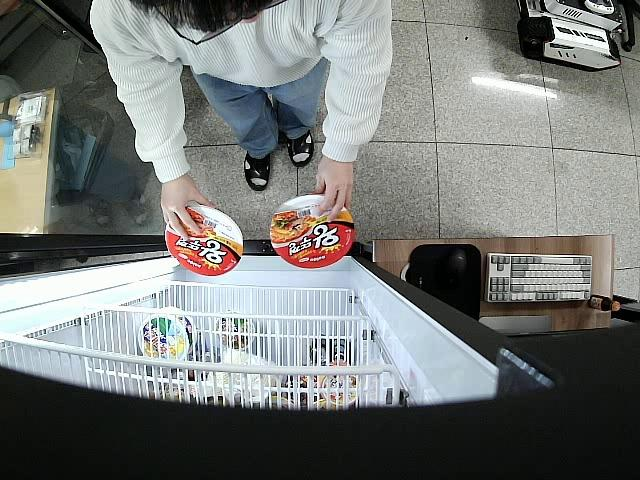00_hand: (160, 180, 214, 241), (314, 155, 355, 220)
10_wangTtukkeong: (270, 194, 356, 269), (165, 204, 244, 276)
